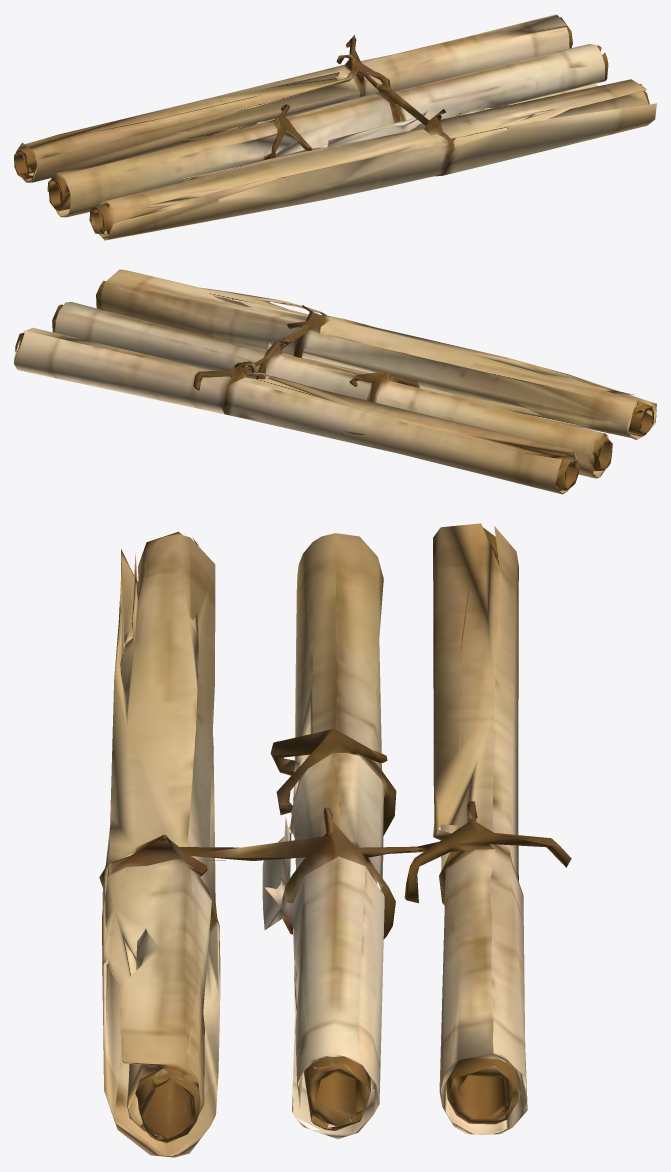
The model's file is rollos_planos.movil.glb.
The picture shows the model from 3 angles, top to bottom: view 1: azimuth 30°, elevation 25°; view 2: azimuth 150°, elevation 25°; view 3: azimuth 270°, elevation 25°; orthographic projection. The views are drawn at different scales.
Parts seen in each view (by area): view 1: geometry_0; view 2: geometry_0; view 3: geometry_0.
Boxes of the visible parts, left/top/right/bottom form: geometry_0: left=14, top=14, right=656, bottom=240; geometry_0: left=14, top=269, right=656, bottom=494; geometry_0: left=99, top=523, right=571, bottom=1157.
Size of the model in its own units: 0.7998 by 0.0974 by 0.2998.
Materials: 1 (1 with a texture image).
